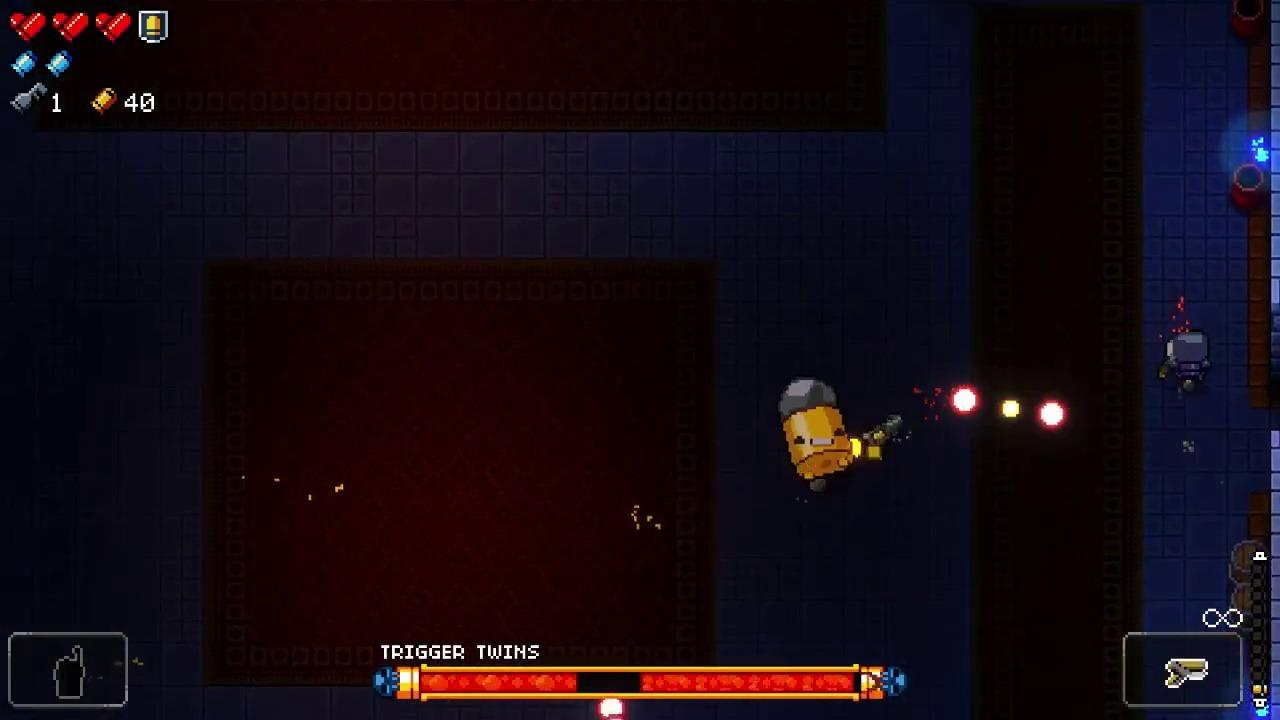boss_smiley: (779, 380, 854, 477)
bullet: (1037, 400, 1069, 434), (947, 385, 979, 418)
player: (1170, 333, 1213, 384)
